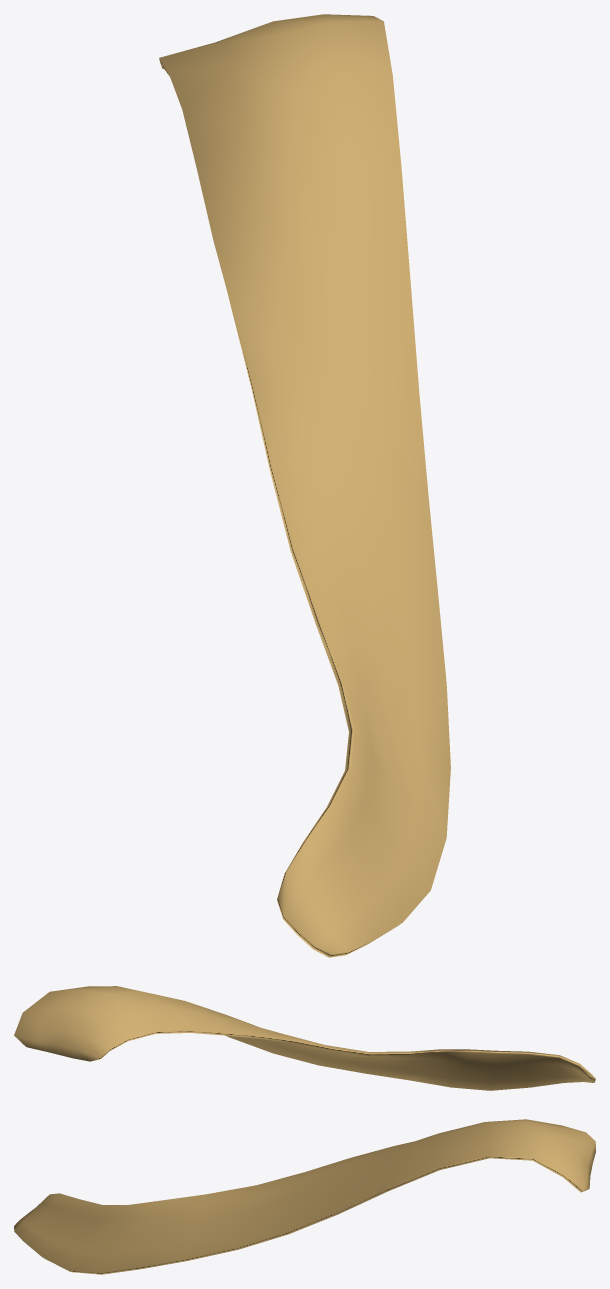
3 views of the same model, one above another, from view 1: azimuth 30°, elevation 25°; view 2: azimuth 150°, elevation 25°; view 3: azimuth 270°, elevation 25° (orthographic). The views are drawn at different scales.
Parts seen in each view (by area): view 1: 右侧腘斜韧带; view 2: 右侧腘斜韧带; view 3: 右侧腘斜韧带.
Boxes of the visible parts, <box> form: 右侧腘斜韧带: <box>159,14,450,957</box>; 右侧腘斜韧带: <box>14,986,595,1090</box>; 右侧腘斜韧带: <box>14,1119,595,1274</box>.
Size of the model in its own units: 0.0642 by 0.0448 by 0.1047.
